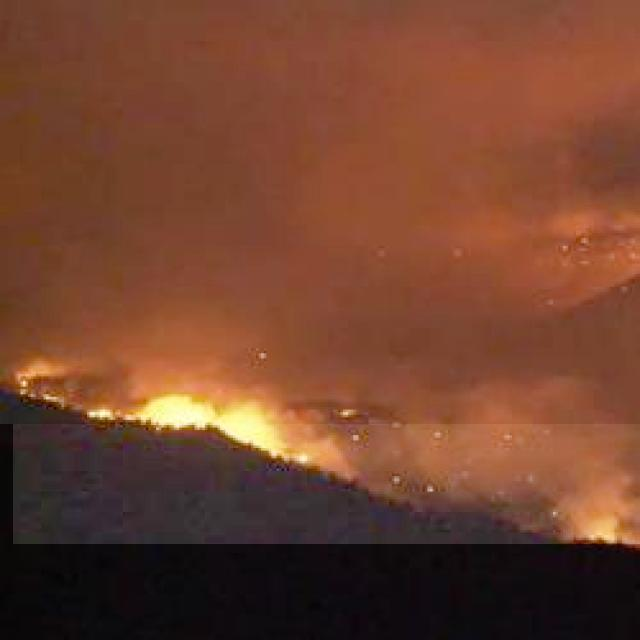Fire: (13, 376, 640, 544)
Smoke: (0, 0, 640, 424)
